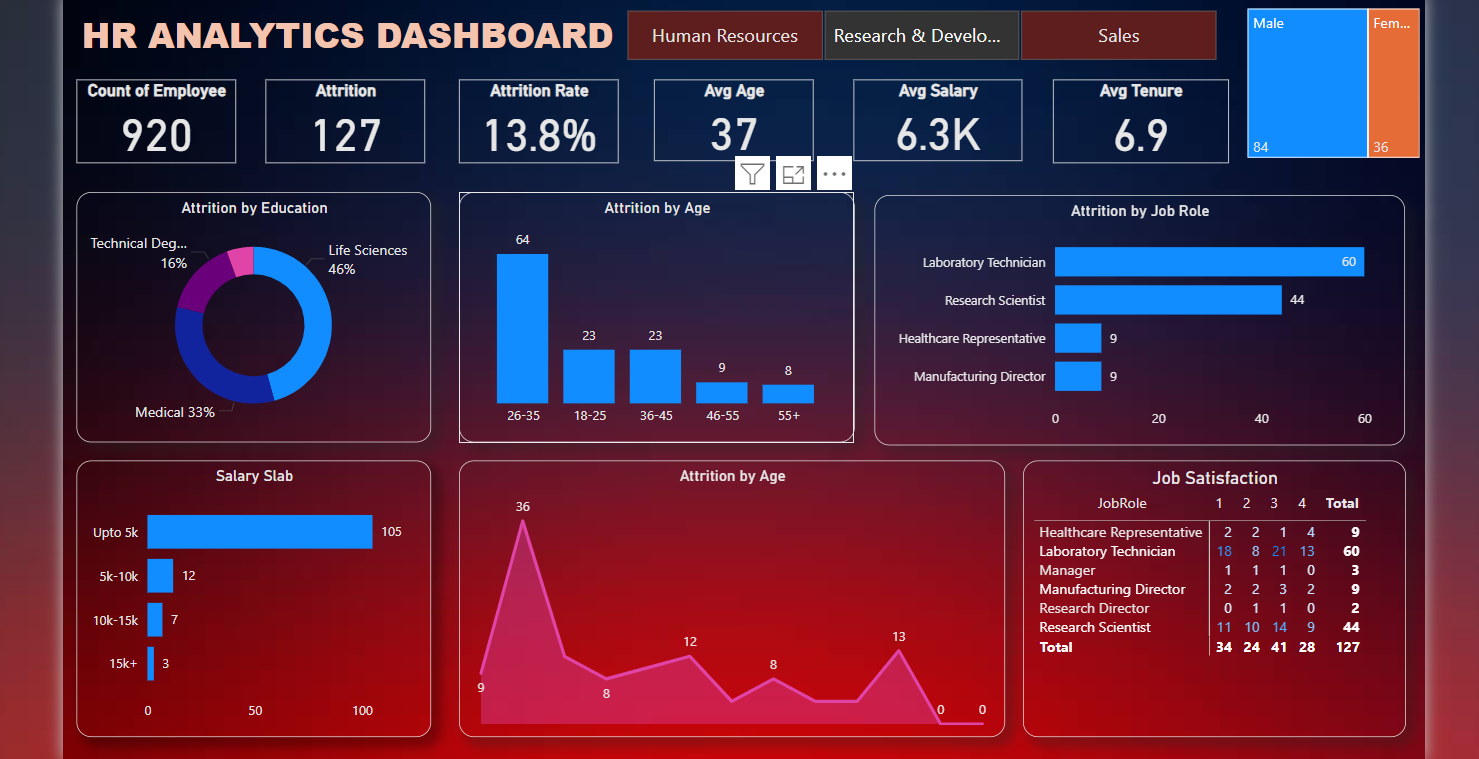

The dashboard page shown, as its layout file describes it:
{"tool":"powerbi","page":{"name":"Page 1","canvas":[1280,720],"ordinal":0},"visuals":[{"type":"card","title":"Count of Employee","fields":{"Values":["CountNonNull(HR_Analytics.EmpID)"]},"box":[13.3,80,150,78.3],"z":0},{"type":"card","title":"Attrition  ","fields":{"Values":["Sum(HR_Analytics.AttritionCount)"]},"box":[190,80,150,78.3],"z":1000},{"type":"card","title":"Attrition Rate","fields":{"Values":["HR_Analytics.AttritionRate"]},"box":[371.7,80,150,78.3],"z":2000},{"type":"card","title":"Avg Age","fields":{"Values":["HR_Analytics.AverageAge"]},"box":[555,80,150,76.7],"z":3000},{"type":"card","title":"Avg Salary","fields":{"Values":["Avg(HR_Analytics.MonthlyIncome)"]},"box":[743.3,80,158.3,76.7],"z":4000},{"type":"card","title":"Avg Age","fields":{"Values":["Avg(HR_Analytics.YearsAtCompany)"]},"box":[930,80,165,78.3],"z":5000},{"type":"donutChart","title":"Attrition  by Education","fields":{"Category":["HR_Analytics.EducationField"],"Y":["Sum(HR_Analytics.AttritionCount)"]},"box":[13.3,186.7,333.3,235],"z":6000},{"type":"columnChart","title":"Attrition  by Age","fields":{"Category":["HR_Analytics.AgeGroup"],"Y":["Sum(HR_Analytics.AttritionCount)"]},"box":[371.7,186.7,371.7,235],"z":7000},{"type":"pivotTable","title":"Job  Satisfaction","fields":{"Columns":["HR_Analytics.JobSatisfaction"],"Rows":["HR_Analytics.JobRole"],"Values":["Sum(HR_Analytics.AttritionCount)"]},"box":[901.7,438.3,360,260],"z":8000},{"type":"clusteredBarChart","title":"Salary Slab","fields":{"Y":["Sum(HR_Analytics.AttritionCount)"],"Category":["HR_Analytics.SalarySlab"]},"box":[13.3,438.3,333.3,260],"z":9000},{"type":"clusteredBarChart","title":"Attrition  by Job Role","fields":{"Category":["HR_Analytics.JobRole"],"Y":["Sum(HR_Analytics.AttritionCount)"]},"box":[763.3,188.3,498.3,235],"z":10000},{"type":"areaChart","title":"Attrition  by Age","fields":{"Category":["HR_Analytics.YearsAtCompany"],"Y":["Sum(HR_Analytics.AttritionCount)"]},"box":[371.7,438.3,513.3,260],"z":11000},{"type":"treemap","title":"Attrition  by Age","fields":{"Values":["Sum(HR_Analytics.AttritionCount)"],"Group":["HR_Analytics.Gender"]},"box":[1108.3,8.3,171.7,150],"z":12000},{"type":"slicer","fields":{"Values":["HR_Analytics.Department"]},"box":[505,8.3,603.3,60],"z":13000},{"type":"textbox","box":[13.3,10,546.7,60],"z":13001}]}

Visuals, with their boxes on the page's 1280x720 design canvas (x1, y1, x2, y2). These are canvas units, not pixel positions in the 1479x759 screenshot, which may show the page scaled, cropped or inside an application window:
"Count of Employee" card: select_region(13, 80, 163, 158)
"Attrition  " card: select_region(190, 80, 340, 158)
"Attrition Rate" card: select_region(372, 80, 522, 158)
"Avg Age" card: select_region(555, 80, 705, 157)
"Avg Salary" card: select_region(743, 80, 902, 157)
"Avg Age" card: select_region(930, 80, 1095, 158)
"Attrition  by Education" donutChart: select_region(13, 187, 347, 422)
"Attrition  by Age" columnChart: select_region(372, 187, 743, 422)
"Job  Satisfaction" pivotTable: select_region(902, 438, 1262, 698)
"Salary Slab" clusteredBarChart: select_region(13, 438, 347, 698)
"Attrition  by Job Role" clusteredBarChart: select_region(763, 188, 1262, 423)
"Attrition  by Age" areaChart: select_region(372, 438, 885, 698)
"Attrition  by Age" treemap: select_region(1108, 8, 1280, 158)
slicer - HR_Analytics.Department: select_region(505, 8, 1108, 68)
textbox: select_region(13, 10, 560, 70)
